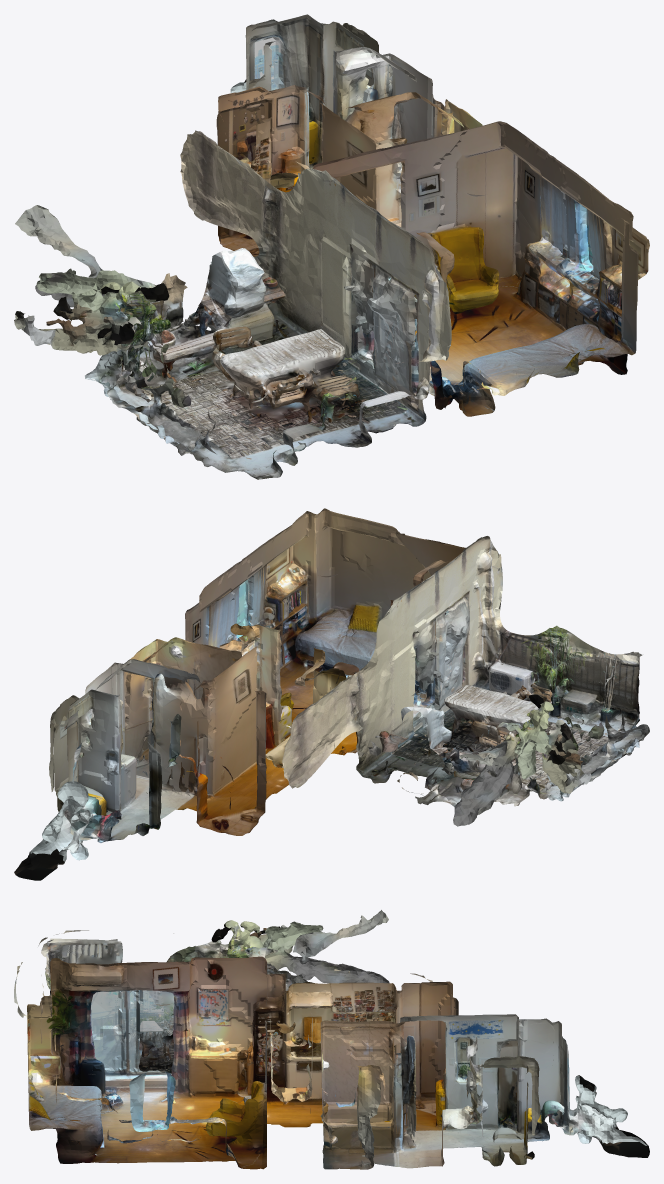
File: daikyocho-2026-08-03.glb
3 views of the same model, one above another, from view 1: azimuth 30°, elevation 25°; view 2: azimuth 150°, elevation 25°; view 3: azimuth 270°, elevation 25° (orthographic). The views are drawn at different scales.
Size of the model in its own units: 7.65 by 2.83 by 10.51.
6 materials, 6 textured.
